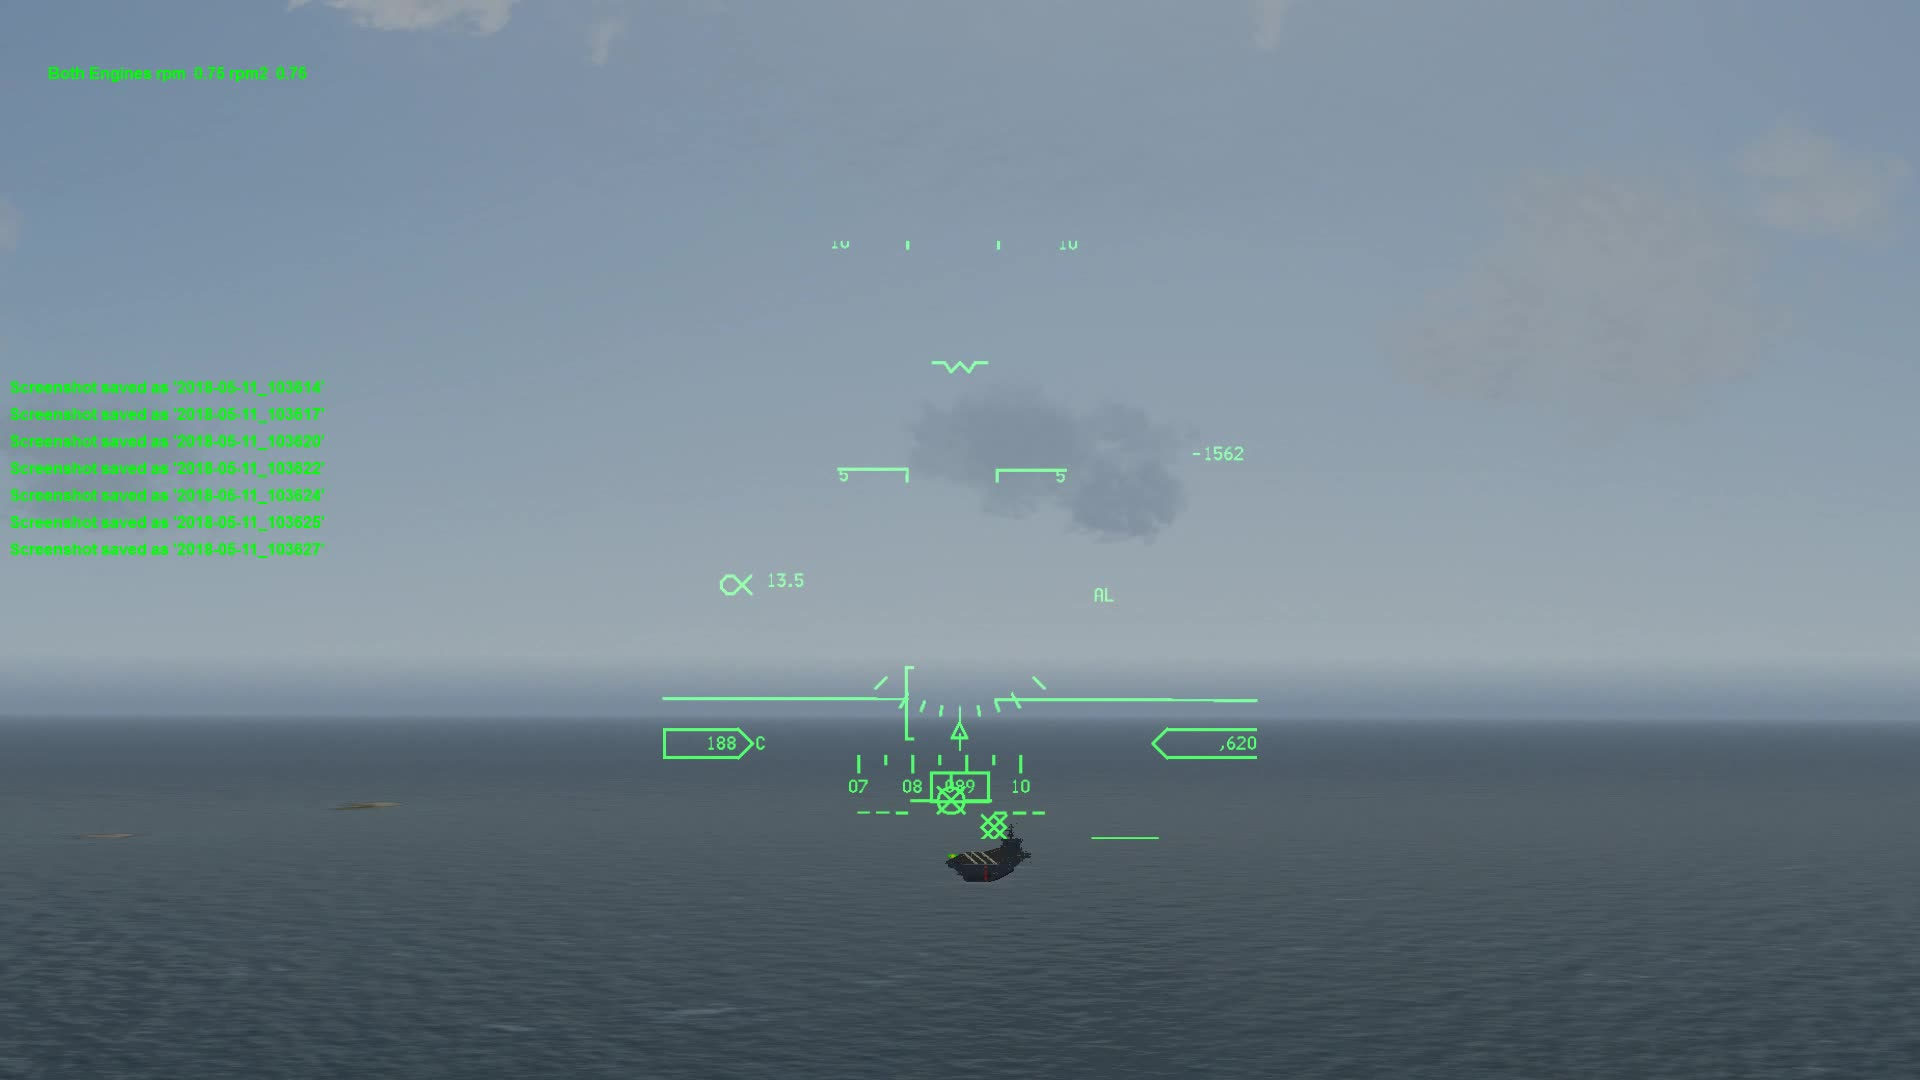speed vector: (927, 789, 988, 819)
